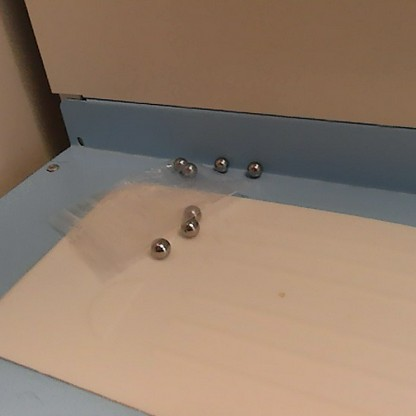ironball: (147, 232, 175, 262), (243, 157, 265, 180), (179, 217, 199, 240), (181, 200, 201, 220), (179, 158, 198, 179), (208, 153, 228, 170), (169, 152, 184, 168)
